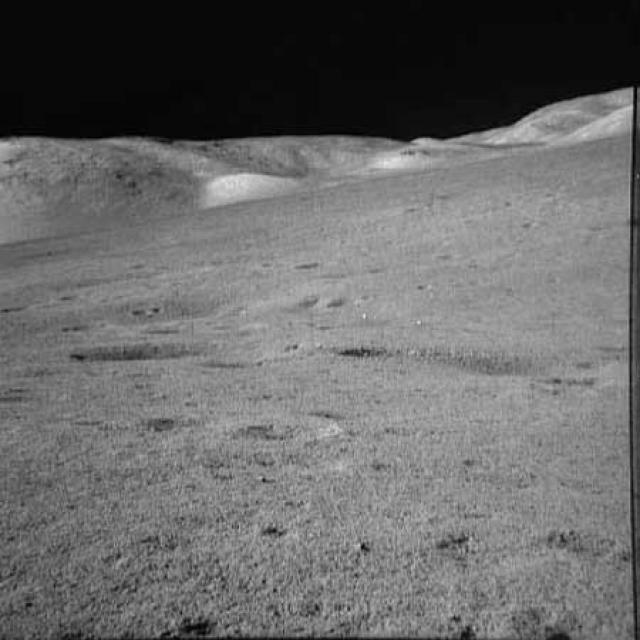crater: (321, 326, 604, 382), (75, 282, 251, 325), (212, 402, 361, 452), (64, 334, 237, 366), (90, 409, 206, 443), (290, 282, 382, 318), (2, 287, 43, 323)
